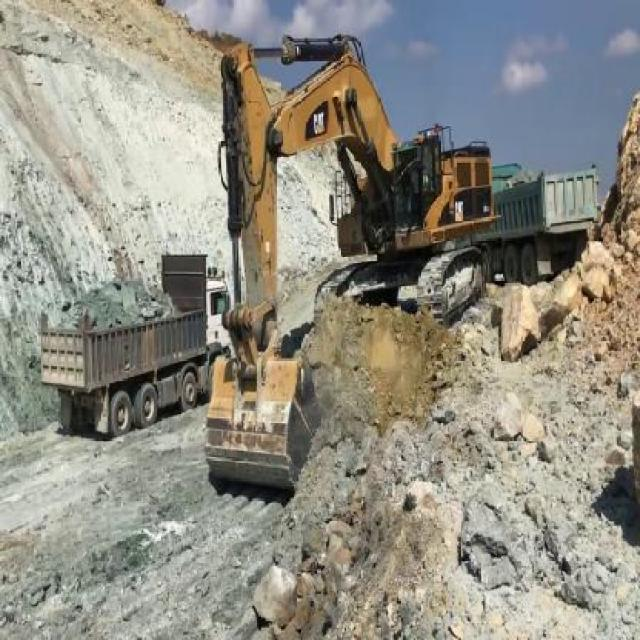Dump Truck: (41, 256, 227, 446), (492, 167, 597, 281)
Excavator: (198, 44, 492, 501)
